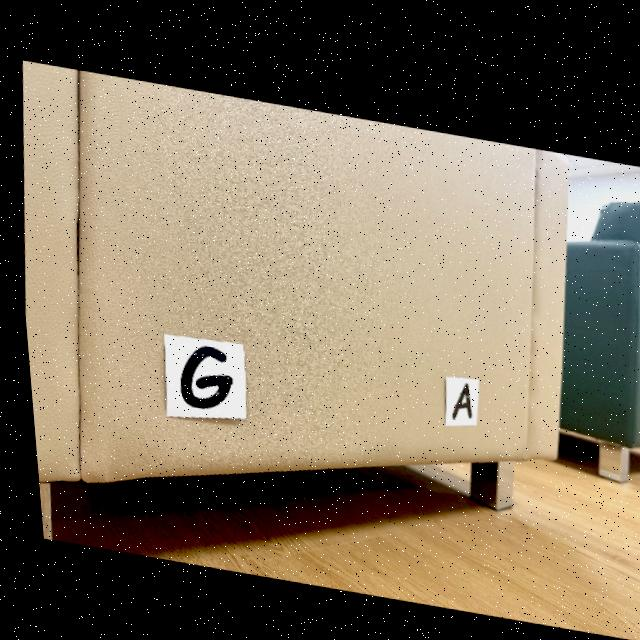A: (445, 374, 466, 409)
G: (175, 342, 227, 405)
